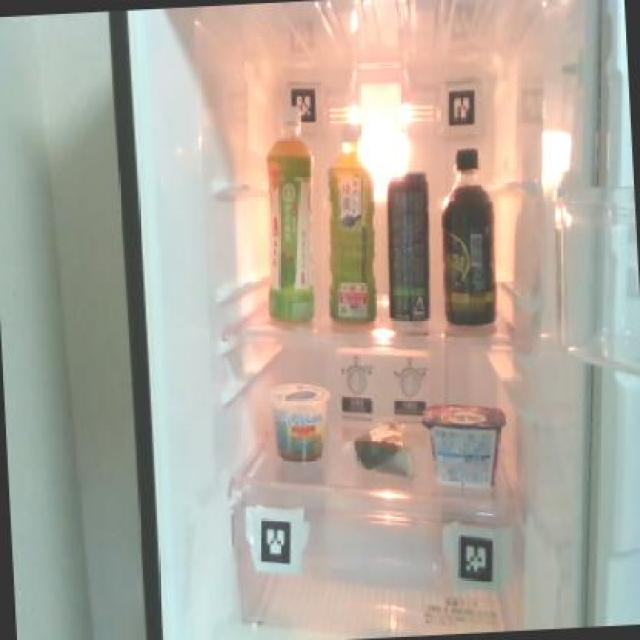coffee: (432, 137, 499, 332)
energy_drink: (378, 167, 437, 322)
pudding: (263, 374, 332, 460)
rice_ball: (350, 417, 410, 475)
tea_a: (317, 120, 383, 328)
tea_i: (253, 114, 321, 326)
yogurt: (422, 396, 512, 493)
